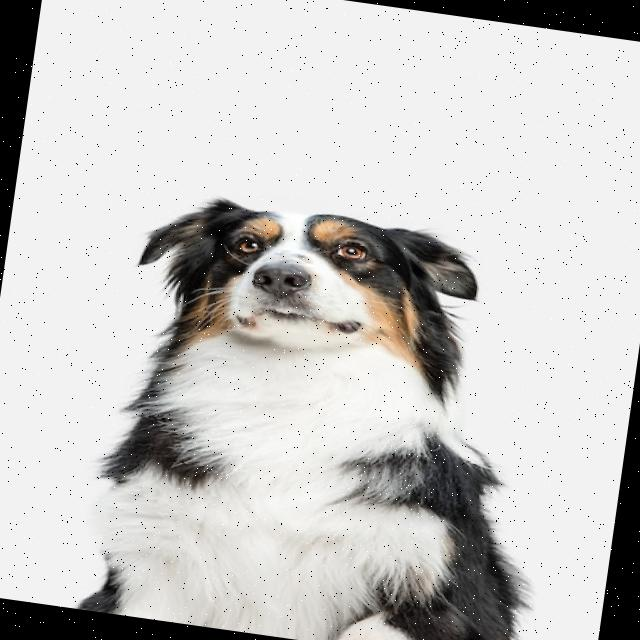Dog: (77, 185, 576, 640)
